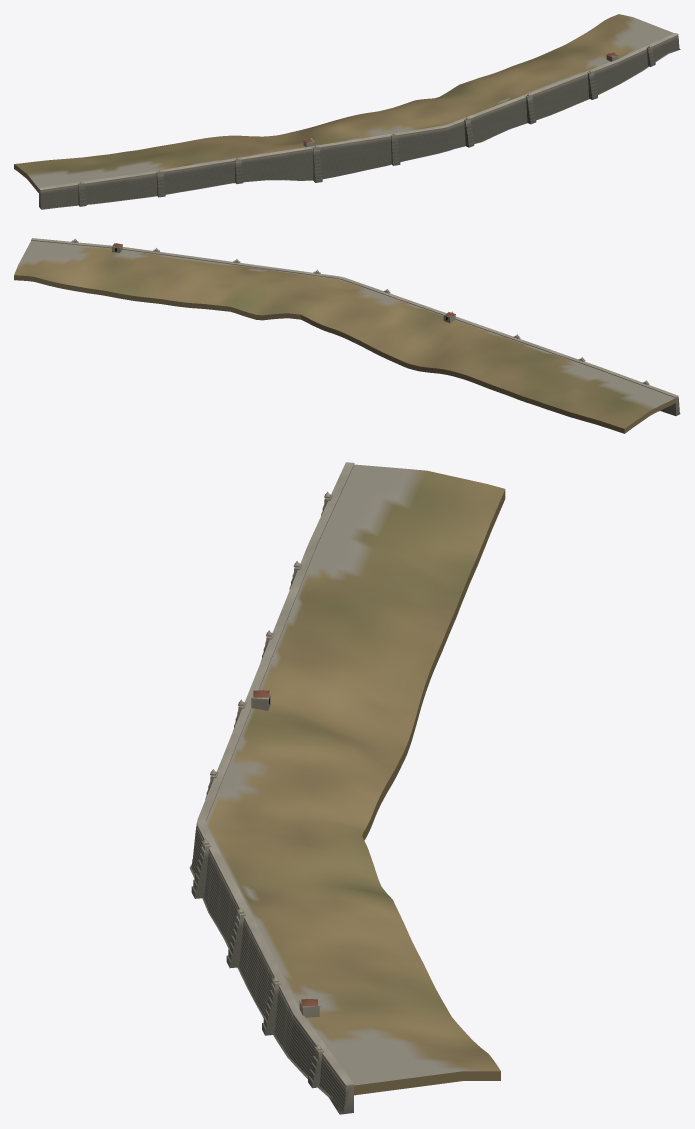
3 renders of one model, top to bottom at view 1: azimuth 30°, elevation 25°; view 2: azimuth 150°, elevation 25°; view 3: azimuth 270°, elevation 25°, orthographic. The views are drawn at different scales.
Parts seen in each view (by area): view 1: presa_de_proserpina; view 2: presa_de_proserpina; view 3: presa_de_proserpina.
Part boxes in pixels (x1,y1,x2,y2): presa_de_proserpina: [14, 14, 680, 209]; presa_de_proserpina: [14, 238, 680, 433]; presa_de_proserpina: [189, 462, 505, 1114].
Bounding box in the file's own units: 410 × 23.12 × 87.64.
